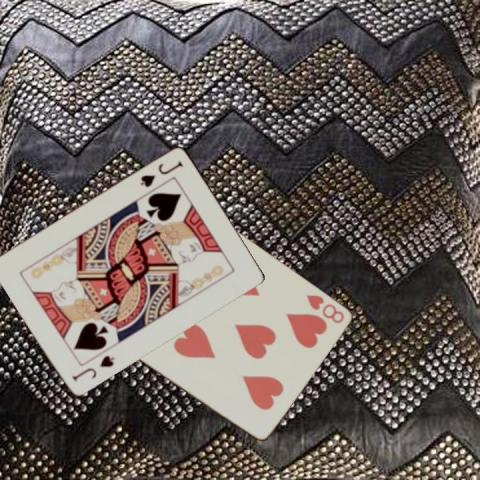8h: (303, 292, 345, 326)
Js: (137, 156, 185, 188), (69, 352, 117, 383)
